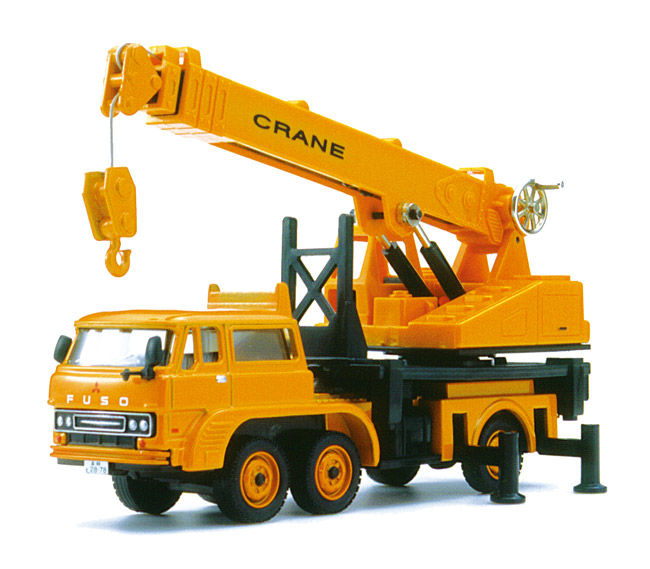crane: (32, 41, 602, 355)
truck: (37, 303, 591, 515)
